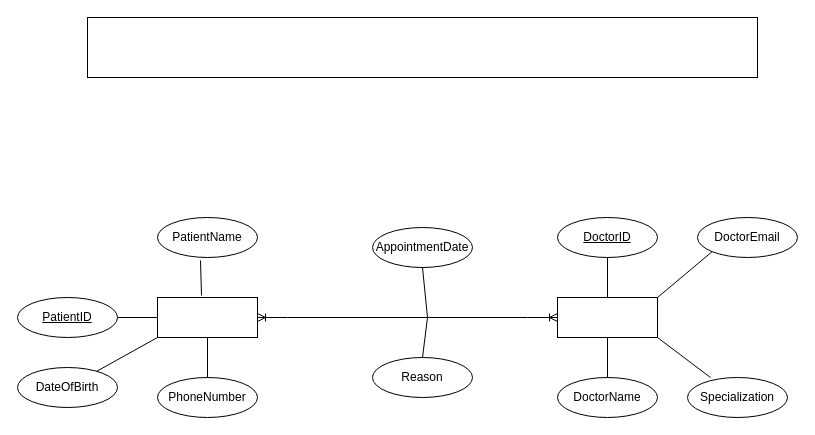
Image size: 815x435. Some labels were removed from this diagram. The shapes that lost their labels are listed below. From the top down, each one's centre as x and y in pixels, then its label:
At [422,47]: "Exam 2 Part 1 Question 1".
At [207,317]: "Patient".
At [607,317]: "Doctor".
